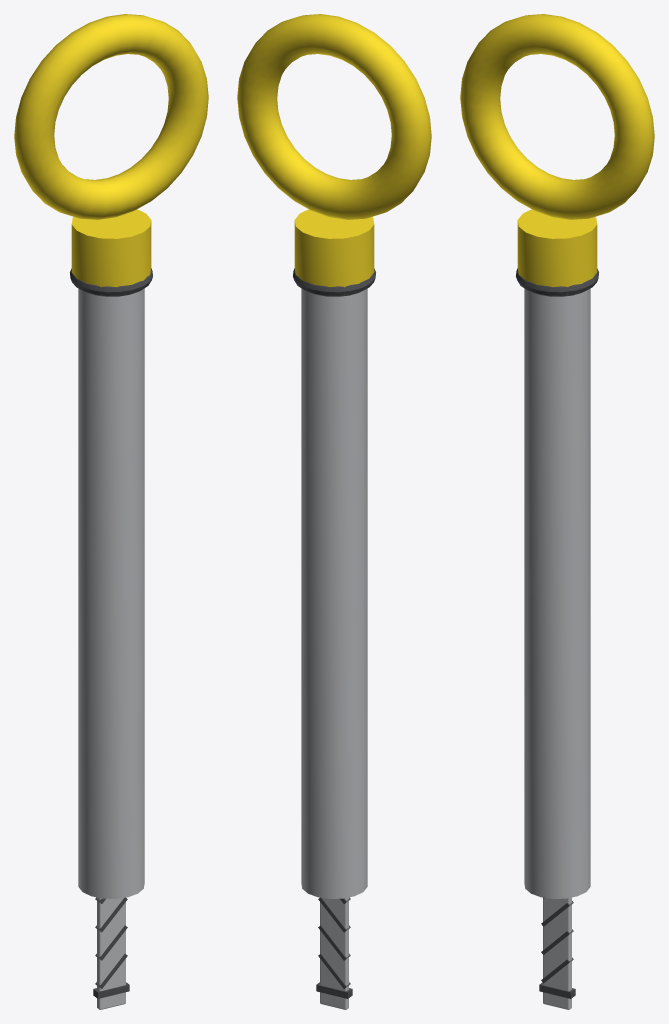
File: oil_dipstick.glb
The picture shows the model from 3 angles, left to right: view 1: azimuth 30°, elevation 25°; view 2: azimuth 150°, elevation 25°; view 3: azimuth 330°, elevation 25°; orthographic projection.
Visible parts, largest first — view 1: guide_tube, handle, level_marks; view 2: guide_tube, handle, level_marks; view 3: guide_tube, handle, level_marks.
Boxes of the visible parts, x1=… form: guide_tube: x1=78, y1=288, x2=144, y2=898; handle: x1=14, y1=14, x2=208, y2=296; level_marks: x1=93, y1=897, x2=129, y2=1009; guide_tube: x1=301, y1=288, x2=367, y2=898; handle: x1=237, y1=14, x2=431, y2=296; level_marks: x1=316, y1=897, x2=352, y2=1009; guide_tube: x1=524, y1=288, x2=590, y2=898; handle: x1=460, y1=14, x2=654, y2=296; level_marks: x1=539, y1=897, x2=575, y2=1009.
Bounding box in the file's own units: 49 × 244 × 18.8.
